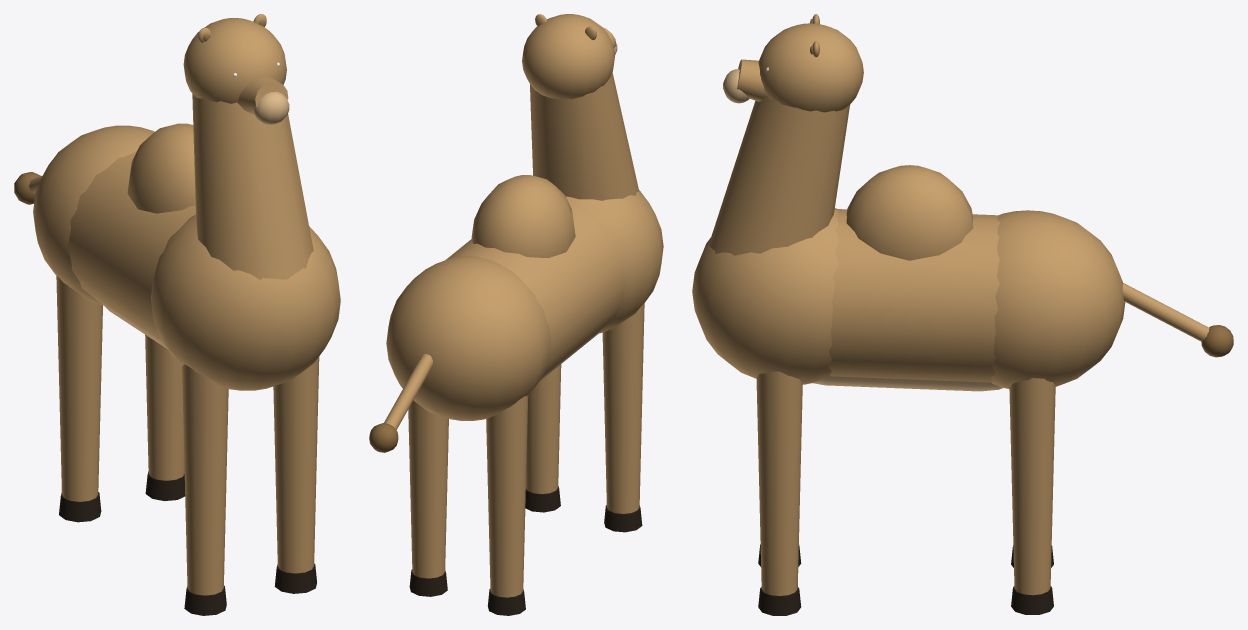
Rendered from h05-unta.glb.
3 views of the same model, side by side, from view 1: azimuth 30°, elevation 25°; view 2: azimuth 150°, elevation 25°; view 3: azimuth 270°, elevation 25° (orthographic). The views are drawn at different scales.
Visible parts, largest first — view 1: Unta, neck, head; view 2: Unta, neck, head; view 3: Unta, neck, head.
Part boxes in pixels (x1,y1,x2,y2): Unta: [14, 123, 340, 615]; neck: [192, 94, 313, 279]; head: [183, 14, 289, 124]; Unta: [369, 175, 663, 615]; neck: [530, 72, 638, 200]; head: [522, 14, 617, 99]; Unta: [692, 165, 1233, 615]; neck: [708, 96, 849, 255]; head: [723, 14, 863, 112].
Size of the model in its own units: 0.5 by 1.63 by 1.44.
